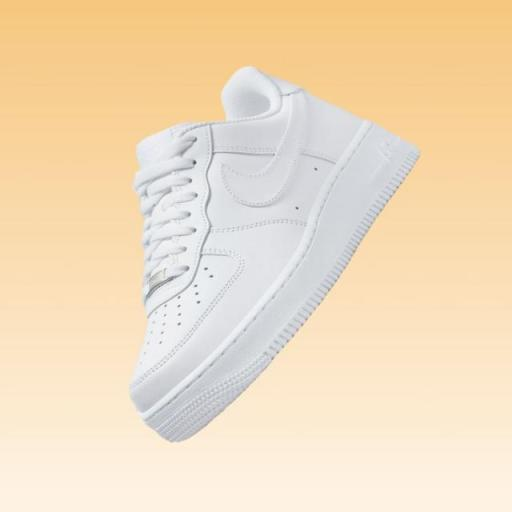Nike: (216, 91, 314, 214)
